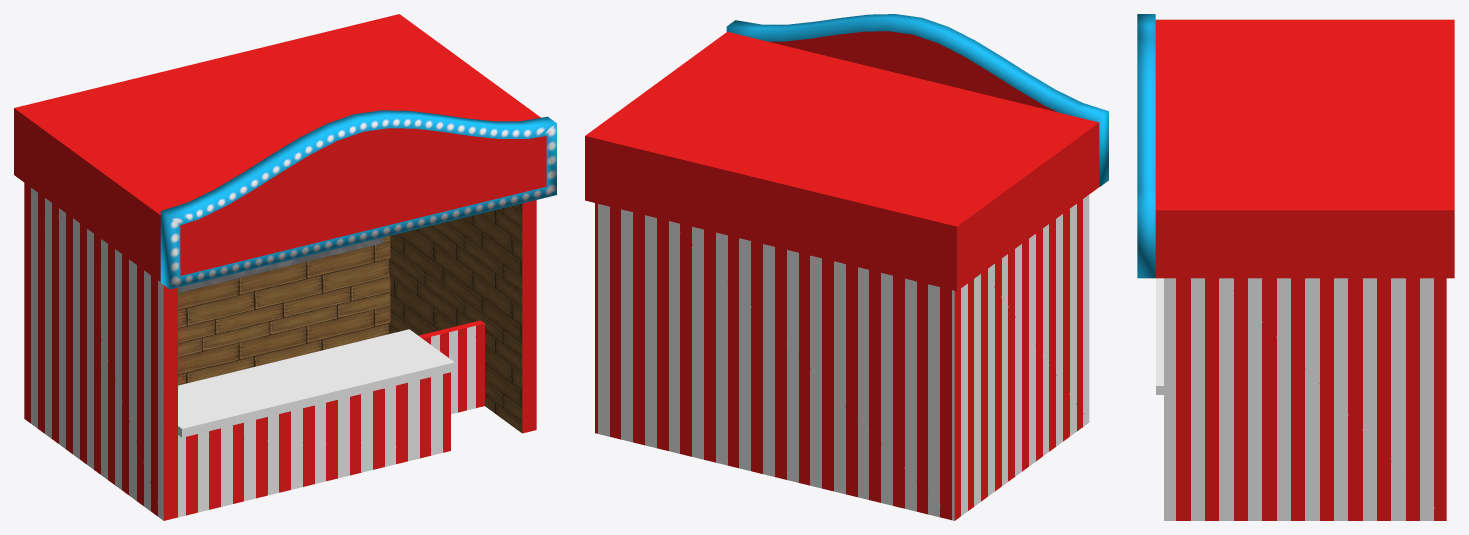
File: Puesto_Dardos.obj
3 views of the same model, side by side, from view 1: azimuth 30°, elevation 25°; view 2: azimuth 150°, elevation 25°; view 3: azimuth 270°, elevation 25° (orthographic). The views are drawn at different scales.
Parts seen in each view (by area): view 1: Puesto_Dardos; view 2: Puesto_Dardos; view 3: Puesto_Dardos.
Part boxes in pixels (bbox=[...]): Puesto_Dardos: bbox=[14, 14, 556, 520]; Puesto_Dardos: bbox=[585, 14, 1108, 520]; Puesto_Dardos: bbox=[1137, 14, 1454, 520].
Size of the model in its own units: 3.63 by 3.26 by 2.54.
10 materials, 10 textured.
